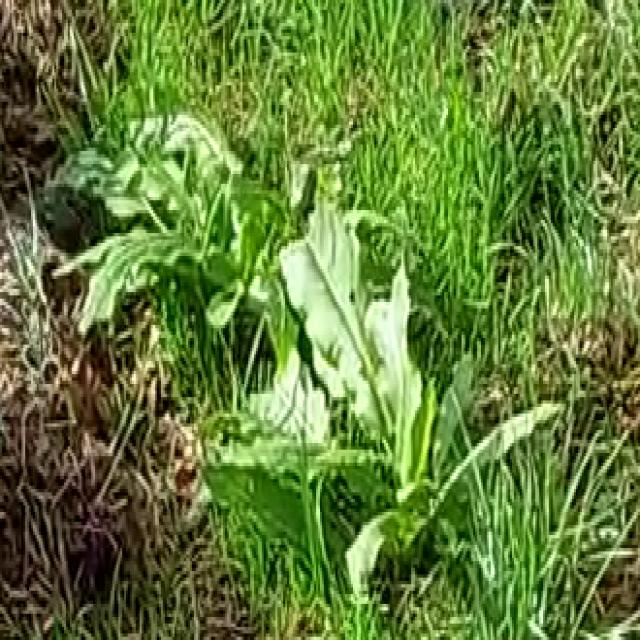organic waste: (260, 213, 525, 614), (56, 66, 316, 332)
